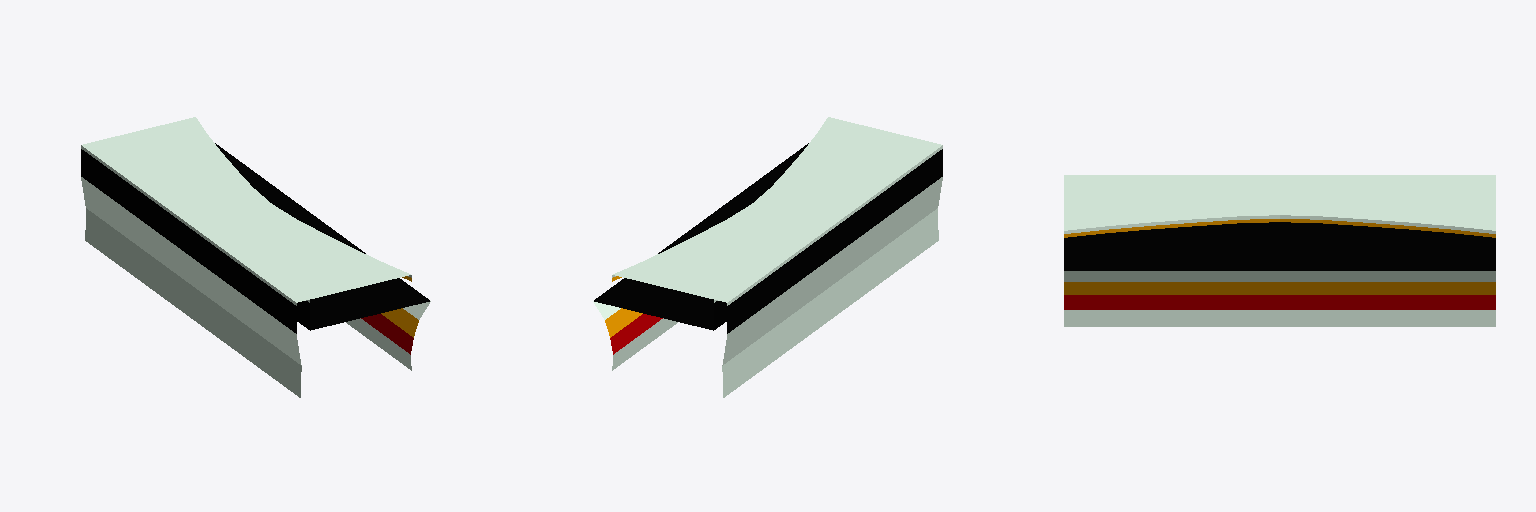
3 views of the same model, side by side, from view 1: azimuth 30°, elevation 25°; view 2: azimuth 150°, elevation 25°; view 3: azimuth 270°, elevation 25° (orthographic).
Parts seen in each view (by area): view 1: base_Cube.001; view 2: base_Cube.001; view 3: base_Cube.001.
Part boxes in pixels (left/top/right/bottom): base_Cube.001: left=81, top=117, right=430, bottom=397; base_Cube.001: left=593, top=117, right=942, bottom=397; base_Cube.001: left=1064, top=175, right=1495, bottom=326.
Size of the model in its own units: 2.92 by 2.01 by 8.11.